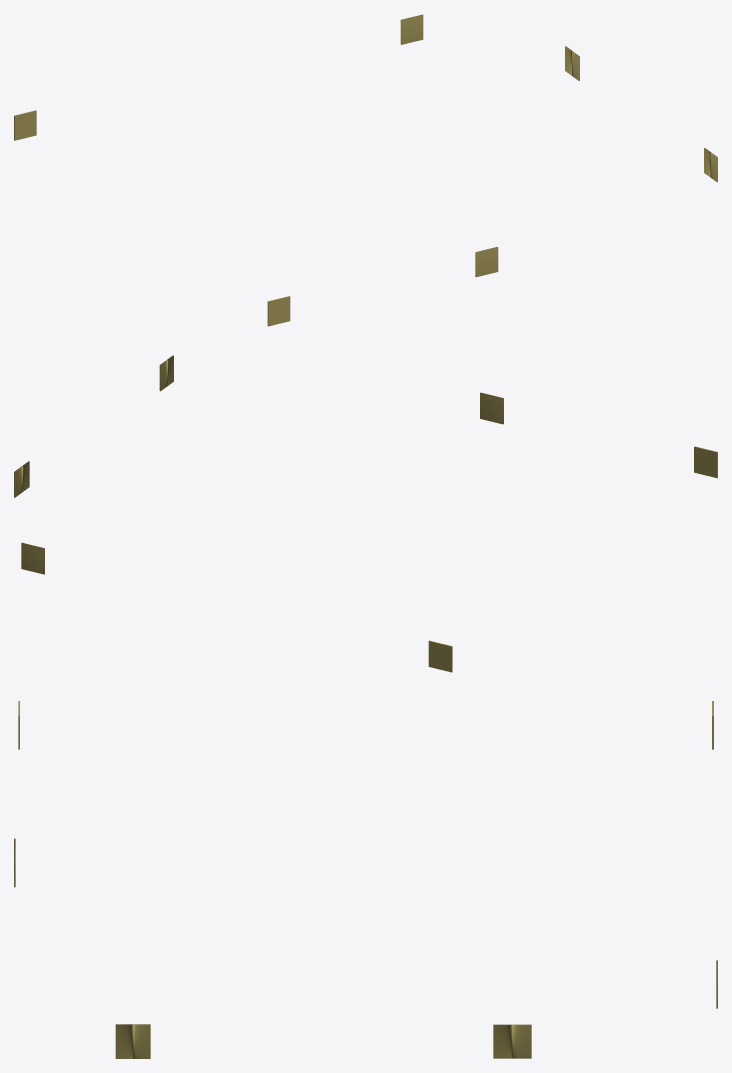
File: Door.fbx
3 renders of one model, top to bottom at view 1: azimuth 30°, elevation 25°; view 2: azimuth 150°, elevation 25°; view 3: azimuth 270°, elevation 25°, orthographic. The views are drawn at different scales.
Parts seen in each view (by area): view 1: Door; view 2: Door; view 3: Door.
Part boxes in pixels (x1=…): Door: x1=14, y1=14, x2=717, y2=326; Door: x1=14, y1=355, x2=717, y2=672; Door: x1=14, y1=701, x2=717, y2=1058.
Size of the model in its own units: 5678 by 276 by 5214.
